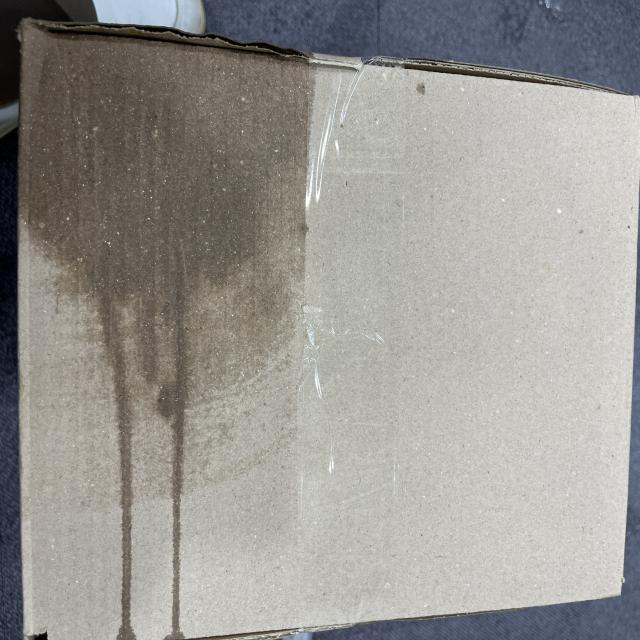wet: (29, 29, 318, 388)
